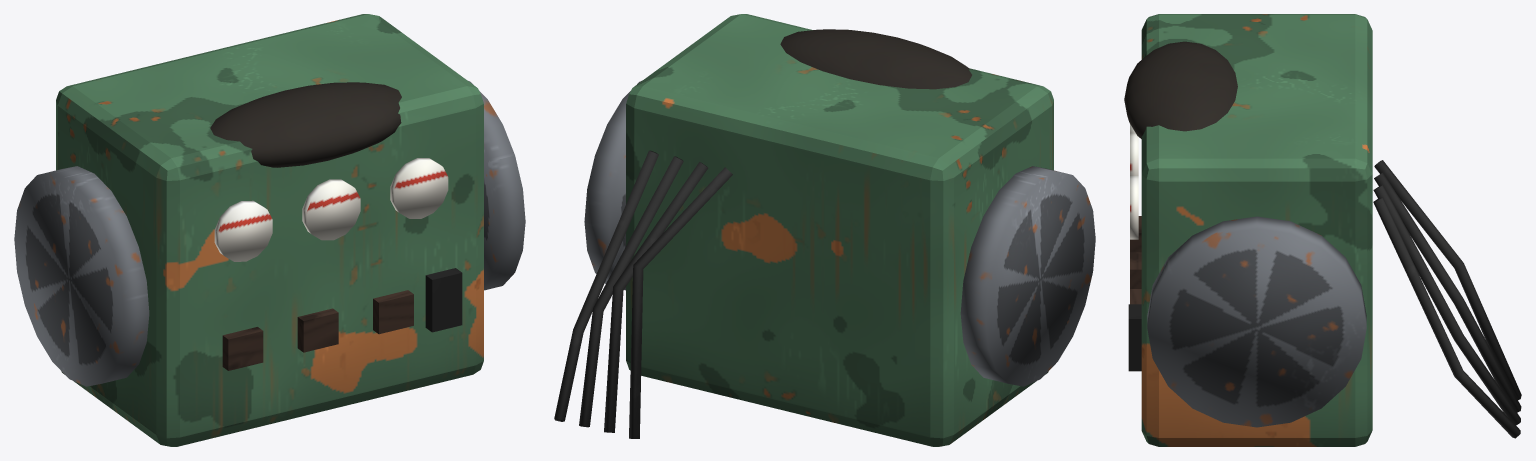
File: generator_broken.glb
3 views of the same model, side by side, from view 1: azimuth 30°, elevation 25°; view 2: azimuth 150°, elevation 25°; view 3: azimuth 270°, elevation 25° (orthographic).
Visible parts, largest first — view 1: Generator; view 2: Generator; view 3: Generator.
Boxes of the visible parts, bbox=[...] form: Generator: bbox=[14, 14, 525, 446]; Generator: bbox=[554, 14, 1095, 446]; Generator: bbox=[1124, 14, 1521, 446].
Bounding box in the file's own units: 1.6 × 1.15 × 1.38.
1 material, 1 textured.
